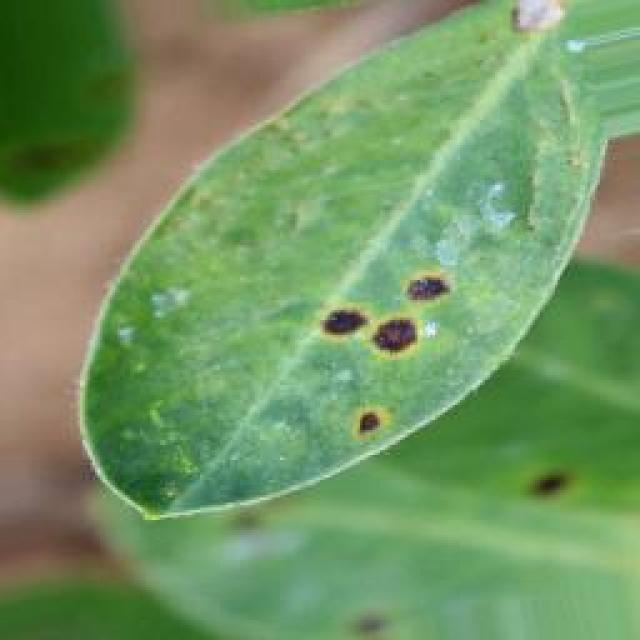Sigatoka: (291, 246, 460, 429)
